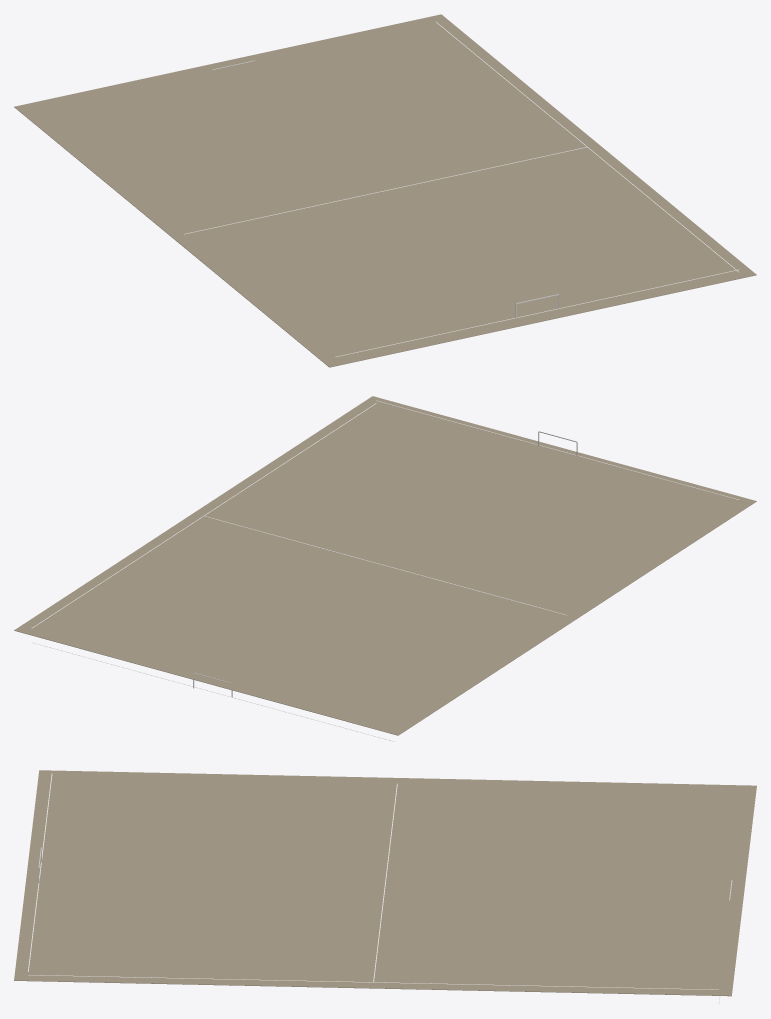
Rendered from nd_pitch_453537940.glb.
3 views of the same model, one above another, from view 1: azimuth 30°, elevation 25°; view 2: azimuth 150°, elevation 25°; view 3: azimuth 270°, elevation 25° (orthographic). The views are drawn at different scales.
Visible parts, largest first — view 1: nd_pitch_453537940_lod0; view 2: nd_pitch_453537940_lod0; view 3: nd_pitch_453537940_lod0.
Boxes of the visible parts, x1,y1,x2,y2 form: nd_pitch_453537940_lod0: (14, 14, 756, 367); nd_pitch_453537940_lod0: (14, 396, 756, 741); nd_pitch_453537940_lod0: (14, 770, 756, 1004).
Size of what is drawn, in the model's own units: 78.45 by 5.58 by 109.
